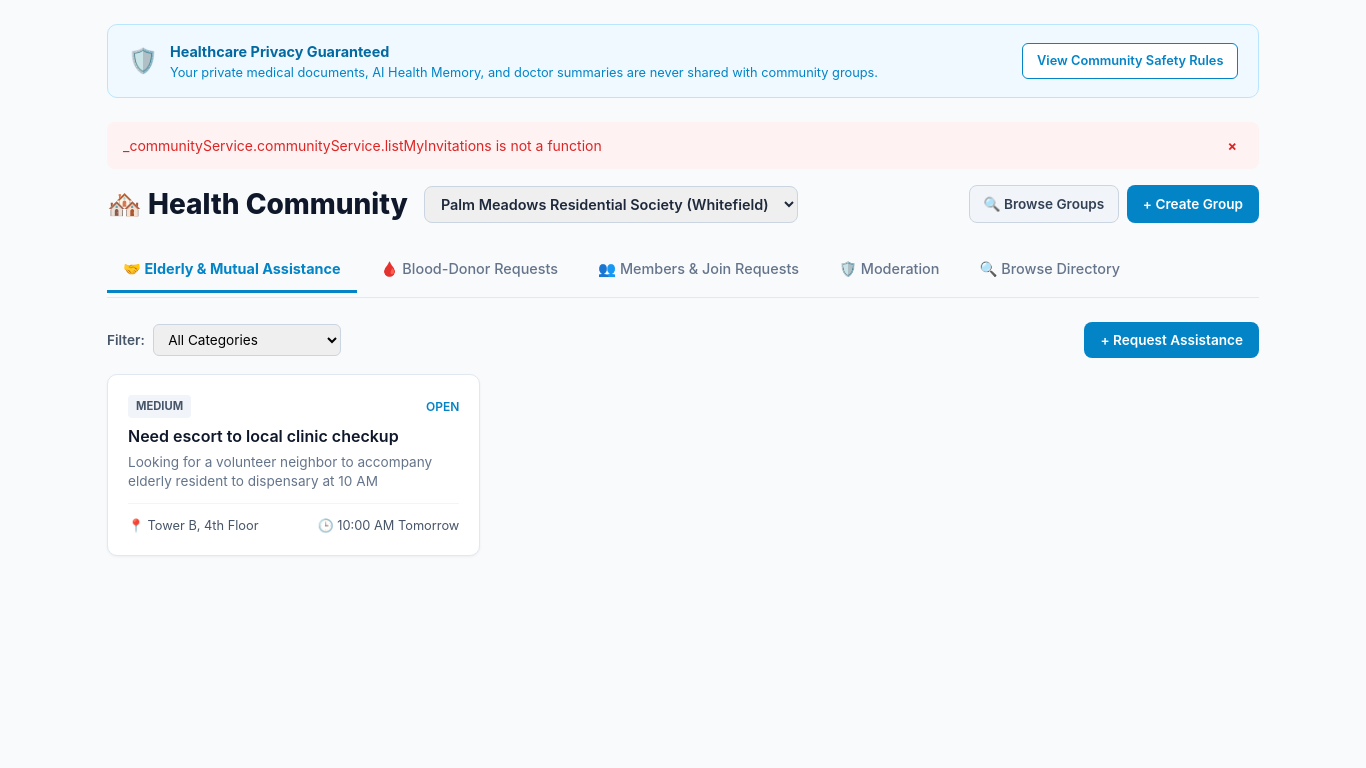
Test: Phase 8 — Community Dashboard UI › opens Create Blood Donor Request modal with medical disclaimer
Click the button "🩸 Blood-Donor Requests". click: click(469, 270)
box: [365,247,574,293]
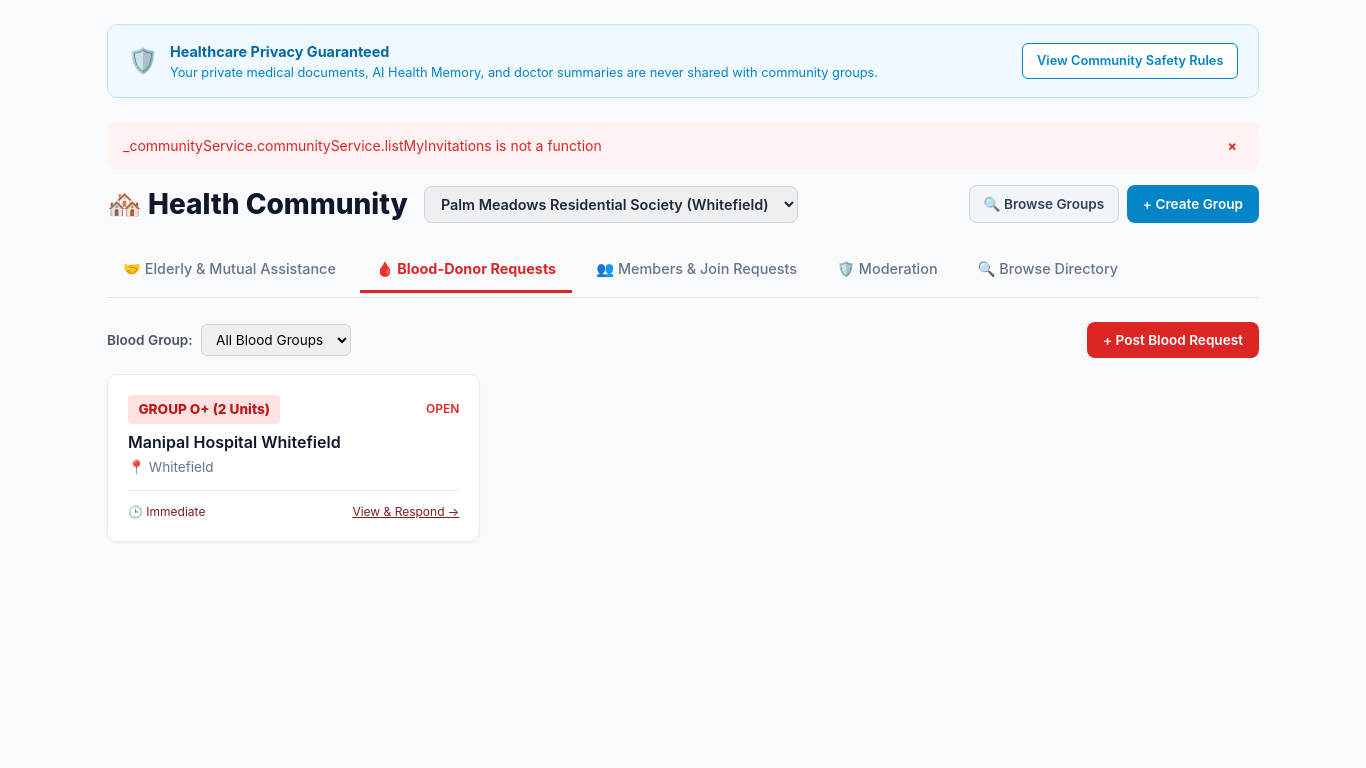
Check: the button "+ Post Blood Request" is shown
Click the button "+ Post Blood Request". click: click(1173, 340)
box: [1087,322,1259,358]
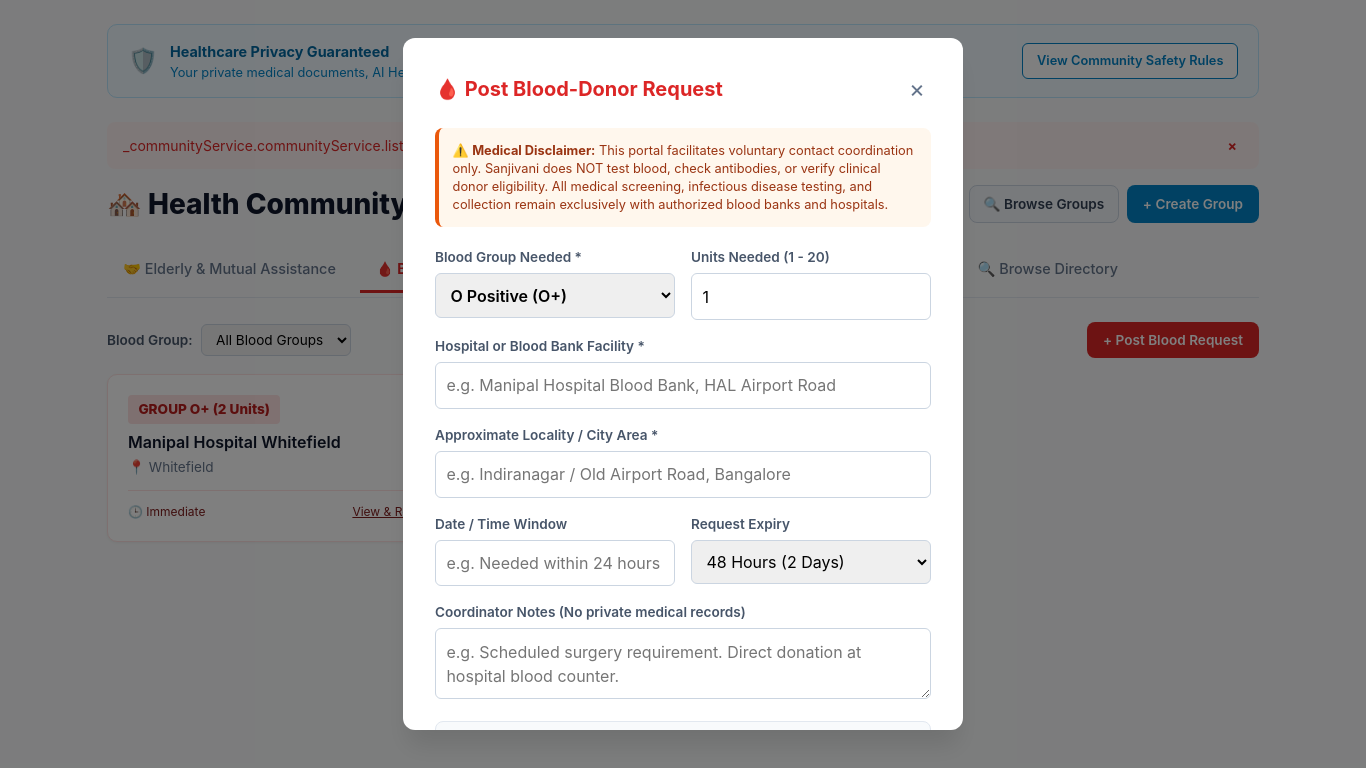
Check: the heading "🩸 Post Blood-Donor Request" is shown, box [435,77,723,102]
Check: the text "Blood Group Needed *" is shown, box [435,249,582,265]
Check: the text "Medical Disclaimer:" is shown, box [472,143,595,158]
